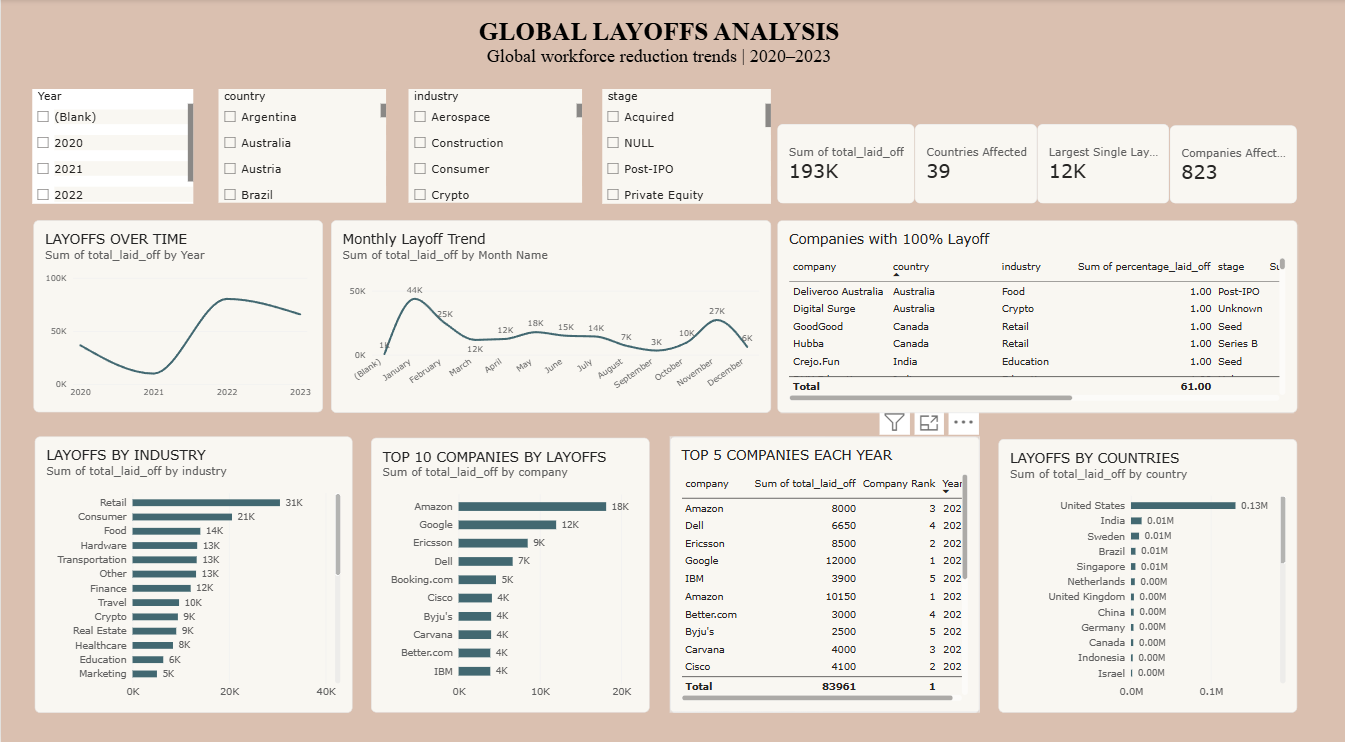

What the dashboard file says about the page in this screenshot:
{"tool":"powerbi","page":{"name":"Page 1","canvas":[1980,1097],"ordinal":0},"visuals":[{"type":"cardVisual","title":"Total Layoffs","fields":{"Data":["Sum(layoffs_cleaned.total_laid_off)"]},"box":[1141.5,183.8,202.2,117.6],"z":0},{"type":"cardVisual","title":"Countries Affected","fields":{"Data":["layoffs_cleaned.Countries Affected"]},"box":[1343.7,183.8,180.1,117.6],"z":1000},{"type":"cardVisual","title":"Largest Layoff","fields":{"Data":["layoffs_cleaned.Largest Single Layoff"]},"box":[1523.8,183.8,194.8,117.6],"z":2000},{"type":"lineChart","title":"LAYOFFS OVER TIME","fields":{"Category":["layoffs_cleaned.Year"],"Y":["Sum(layoffs_cleaned.total_laid_off)"]},"box":[47.1,325.7,425.3,282.3],"z":3000},{"type":"slicer","fields":{"Values":["layoffs_cleaned.Year"]},"box":[46,132.3,237.1,169.1],"z":4000},{"type":"slicer","fields":{"Values":["layoffs_cleaned.industry"]},"box":[599.2,132.3,255.5,167.3],"z":5000},{"type":"slicer","fields":{"Values":["layoffs_cleaned.country"]},"box":[319.8,132.3,246.3,167.3],"z":6000},{"type":"slicer","fields":{"Values":["layoffs_cleaned.stage"]},"box":[884.1,132.3,248.1,169.1],"z":7000},{"type":"tableEx","title":"TOP 5 COMPANIES EACH YEAR","fields":{"Values":["layoffs_cleaned.company","Sum(layoffs_cleaned.total_laid_off)","layoffs_cleaned.Company Rank","layoffs_cleaned.Year"]},"box":[983.4,643.4,455.9,406.2],"z":8000},{"type":"clusteredBarChart","title":"TOP 10 COMPANIES BY LAYOFFS","fields":{"Category":["layoffs_cleaned.company"],"Y":["Sum(layoffs_cleaned.total_laid_off)"]},"box":[544.1,645.2,409.9,404.4],"z":9000},{"type":"tableEx","title":"Companies with 100% Layoff","fields":{"Values":["layoffs_cleaned.company","layoffs_cleaned.country","layoffs_cleaned.industry","Sum(layoffs_cleaned.percentage_laid_off)","layoffs_cleaned.stage","Sum(layoffs_cleaned.total_laid_off)","layoffs_cleaned.date.Variation.Date Hierarchy.Year","layoffs_cleaned.date.Variation.Date Hierarchy.Quarter","layoffs_cleaned.date.Variation.Date Hierarchy.Month","layoffs_cleaned.date.Variation.Date Hierarchy.Day","layoffs_cleaned.Layoff_100_Percent"]},"box":[1141.5,325.4,764.7,283.1],"z":10000},{"type":"clusteredBarChart","title":"LAYOFFS BY INDUSTRY","fields":{"Category":["layoffs_cleaned.industry"],"Y":["Sum(layoffs_cleaned.total_laid_off)"]},"box":[49.6,643.4,466.9,406.2],"z":11000},{"type":"clusteredBarChart","title":"LAYOFFS BY COUNTRIES","fields":{"Category":["layoffs_cleaned.country"],"Y":["Sum(layoffs_cleaned.total_laid_off)"]},"box":[1466.8,647,439.3,402.6],"z":12000},{"type":"lineChart","title":"Monthly Layoff Trend","fields":{"Category":["layoffs_cleaned.Month Name"],"Y":["Sum(layoffs_cleaned.total_laid_off)"]},"box":[485.3,325.4,647,283.1],"z":13000},{"type":"textbox","box":[669.6,25.3,597.2,81.4],"z":14000},{"type":"cardVisual","title":"Companies Affected","fields":{"Data":["layoffs_cleaned.Companies Affected"]},"box":[1718.7,185.7,187.5,115.8],"z":15000}]}

Visuals, with their boxes in screenshot pixels (x1, y1, x2, y2), scaled from the page's 1980x1097 canvas onto the 1345x742 screenshot:
"Total Layoffs" cardVisual: x1=775 y1=124 x2=913 y2=204
"Countries Affected" cardVisual: x1=913 y1=124 x2=1035 y2=204
"Largest Layoff" cardVisual: x1=1035 y1=124 x2=1167 y2=204
"LAYOFFS OVER TIME" lineChart: x1=32 y1=220 x2=321 y2=411
slicer - layoffs_cleaned.Year: x1=31 y1=89 x2=192 y2=204
slicer - layoffs_cleaned.industry: x1=407 y1=89 x2=581 y2=203
slicer - layoffs_cleaned.country: x1=217 y1=89 x2=385 y2=203
slicer - layoffs_cleaned.stage: x1=601 y1=89 x2=769 y2=204
"TOP 5 COMPANIES EACH YEAR" tableEx: x1=668 y1=435 x2=978 y2=710
"TOP 10 COMPANIES BY LAYOFFS" clusteredBarChart: x1=370 y1=436 x2=648 y2=710
"Companies with 100% Layoff" tableEx: x1=775 y1=220 x2=1295 y2=412
"LAYOFFS BY INDUSTRY" clusteredBarChart: x1=34 y1=435 x2=351 y2=710
"LAYOFFS BY COUNTRIES" clusteredBarChart: x1=996 y1=438 x2=1295 y2=710
"Monthly Layoff Trend" lineChart: x1=330 y1=220 x2=769 y2=412
textbox: x1=455 y1=17 x2=861 y2=72
"Companies Affected" cardVisual: x1=1168 y1=126 x2=1295 y2=204
